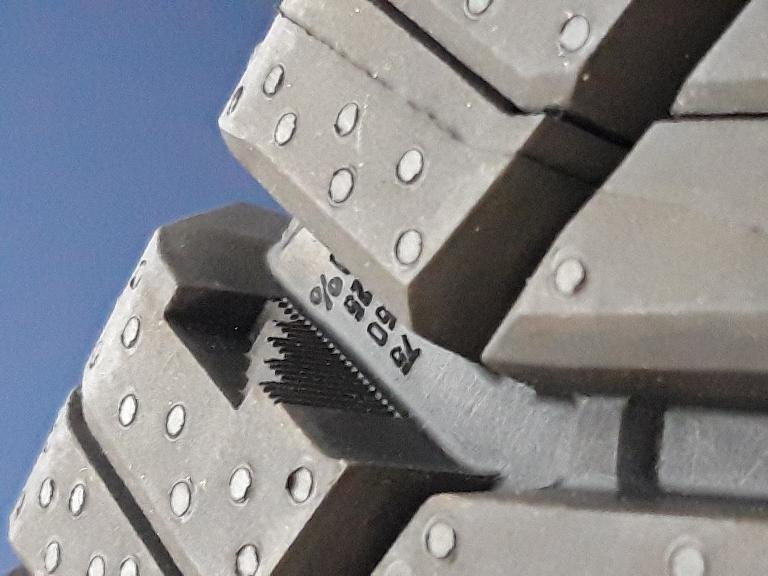temoin:100: (159, 280, 414, 428)
